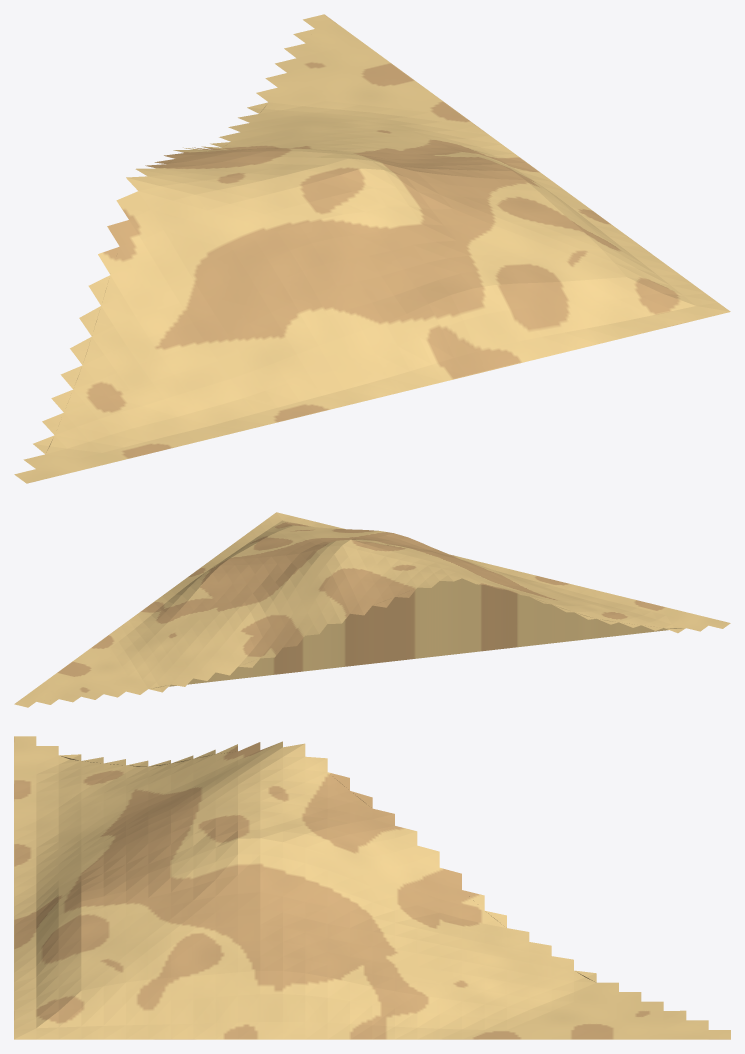
Rendered from Desert_Mountains_02_NE.obj.
3 views of the same model, one above another, from view 1: azimuth 30°, elevation 25°; view 2: azimuth 150°, elevation 25°; view 3: azimuth 270°, elevation 25° (orthographic). The views are drawn at different scales.
Size of the model in its own units: 10 by 1.64 by 10.
1 material, 1 textured.
